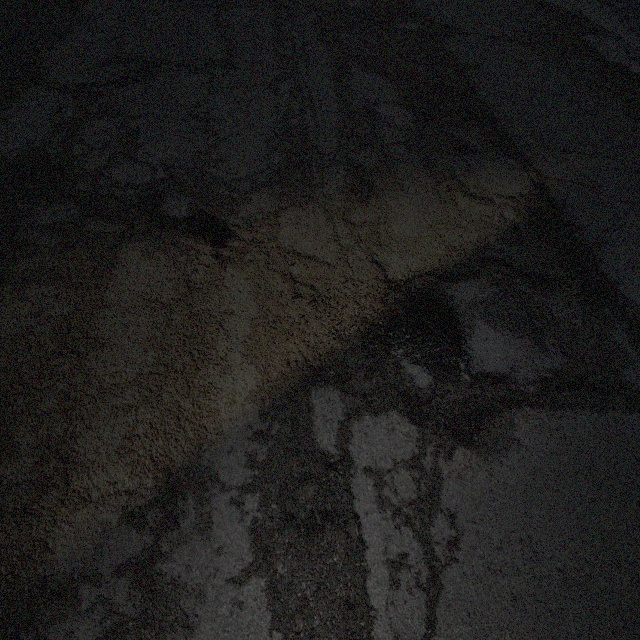pothole: (370, 271, 467, 380), (132, 184, 234, 260)
